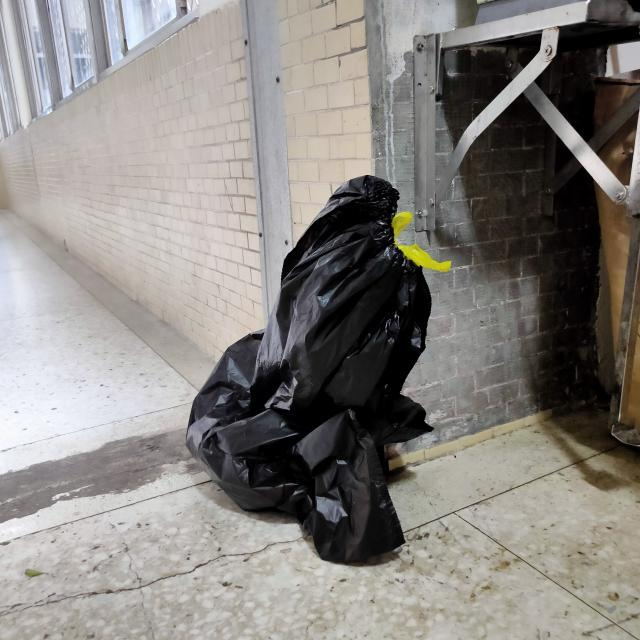Vinyl: (164, 136, 452, 574)
